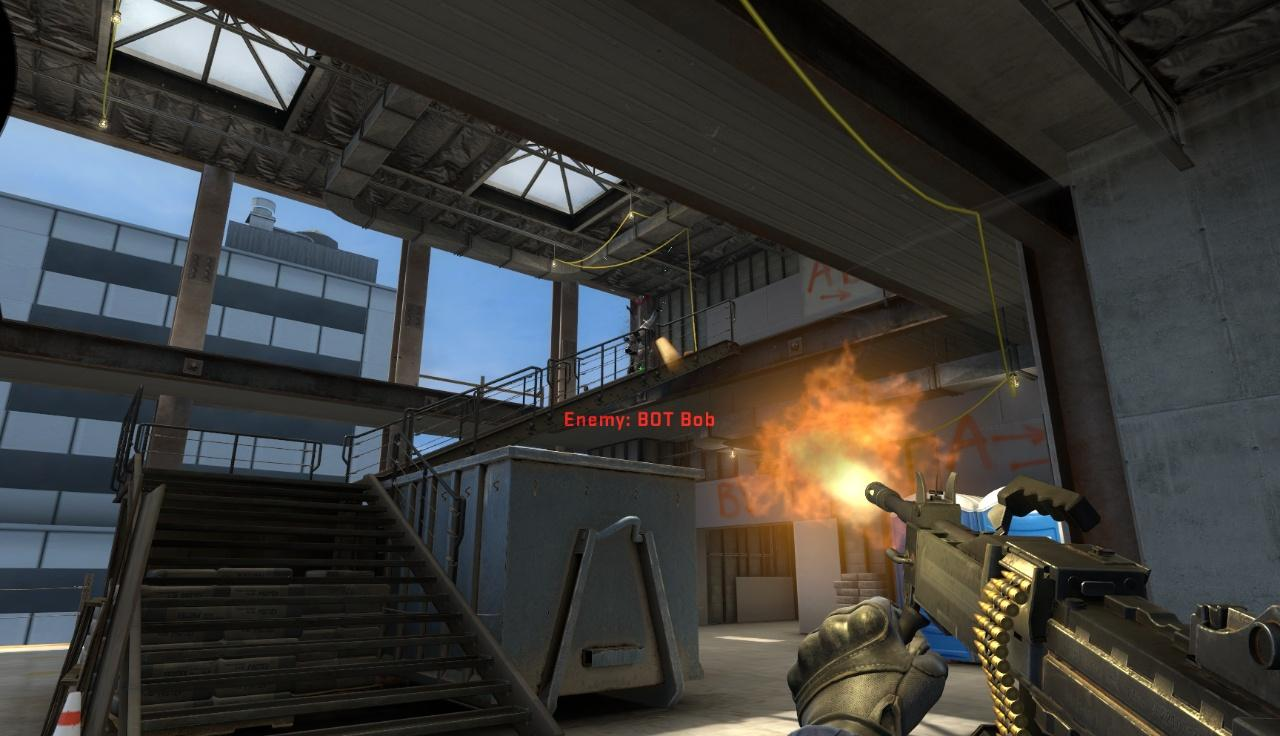rifle: (838, 455, 1280, 736)
